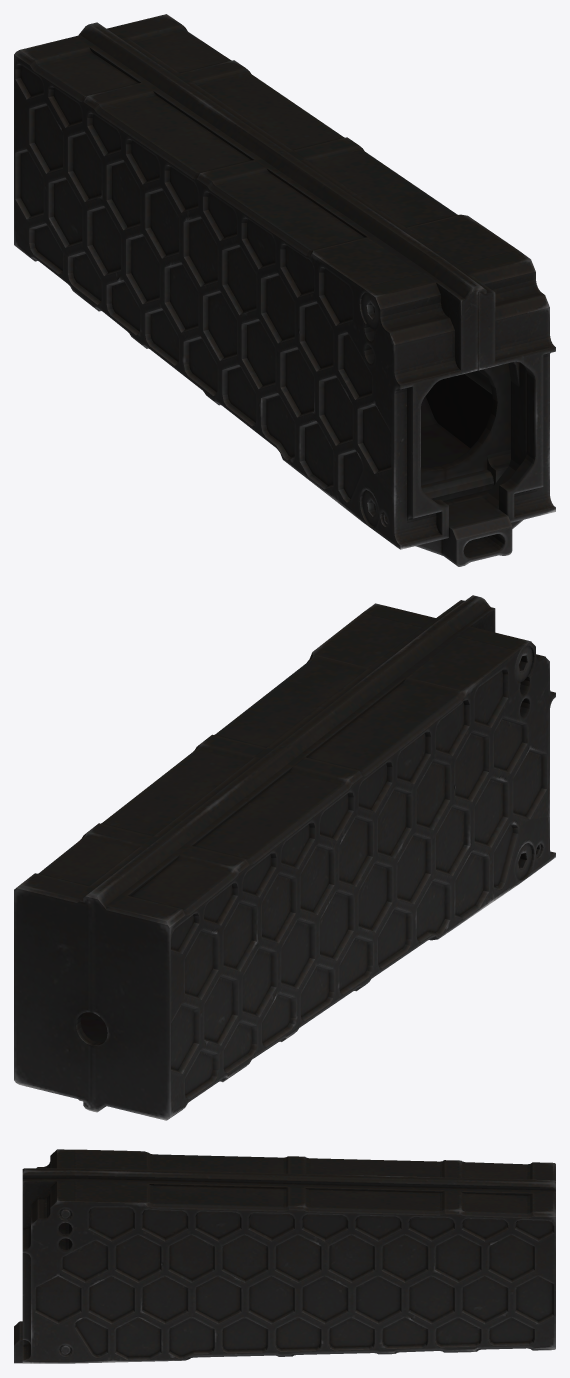
The picture shows the model from 3 angles, top to bottom: view 1: azimuth 30°, elevation 25°; view 2: azimuth 150°, elevation 25°; view 3: azimuth 270°, elevation 25°; orthographic projection. The views are drawn at different scales.
Visible parts, largest first — view 1: TW_615d8f8567085e45ef1409ca_PZ_Import; view 2: TW_615d8f8567085e45ef1409ca_PZ_Import; view 3: TW_615d8f8567085e45ef1409ca_PZ_Import.
Boxes of the visible parts, x1=… form: TW_615d8f8567085e45ef1409ca_PZ_Import: x1=14, y1=14, x2=555, y2=566; TW_615d8f8567085e45ef1409ca_PZ_Import: x1=14, y1=595, x2=555, y2=1120; TW_615d8f8567085e45ef1409ca_PZ_Import: x1=14, y1=1149, x2=555, y2=1363.
Size of the model in its own units: 0.0215 by 0.094 by 0.0355.
Materials: 1 (1 with a texture image).
